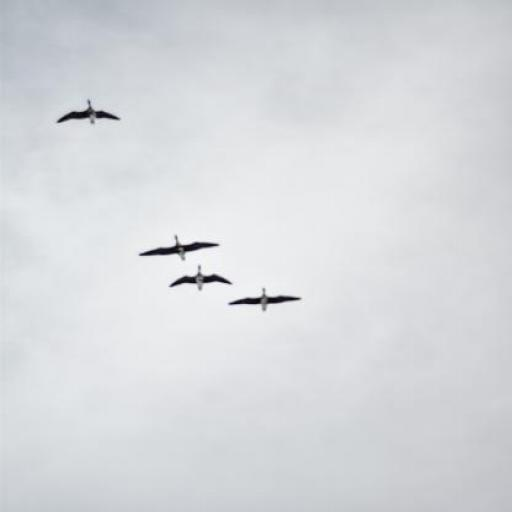bird: (139, 235, 220, 261), (228, 287, 301, 311), (168, 265, 232, 290), (56, 98, 120, 123)
